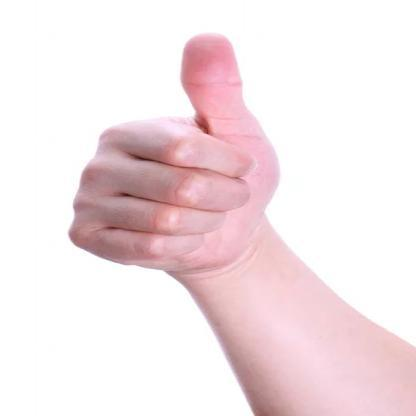thumb_up: (62, 30, 288, 276)
